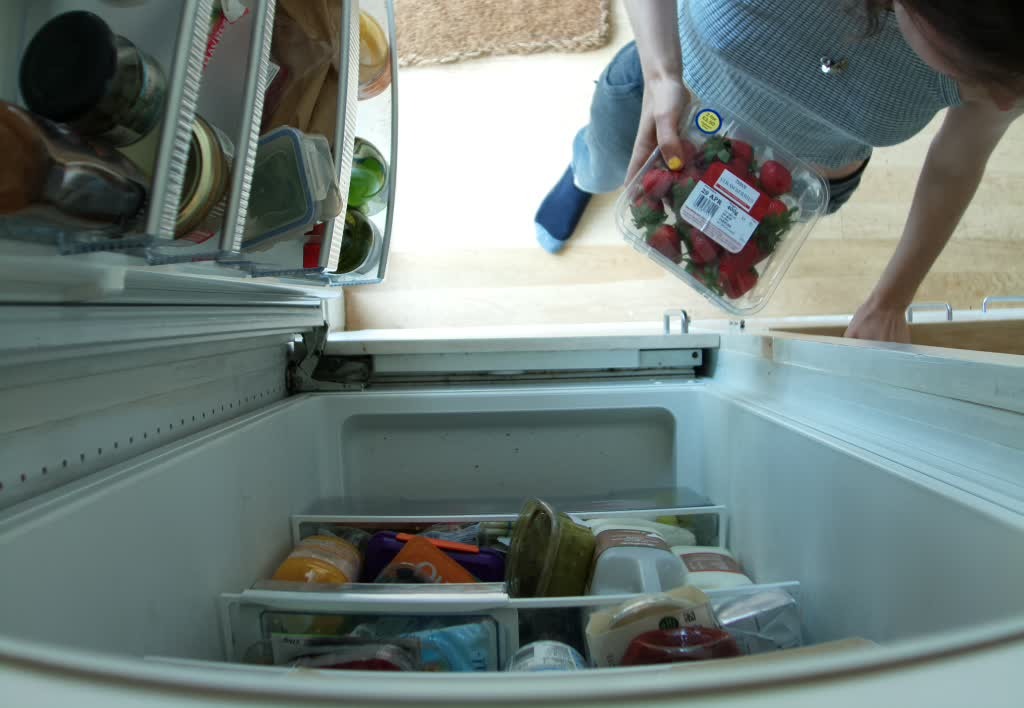soft-fruit: (617, 96, 824, 308)
